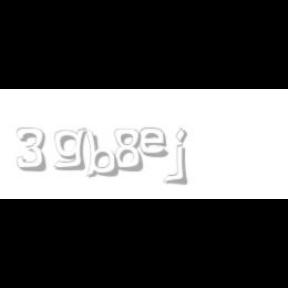3: (16, 128, 48, 172)
8: (114, 128, 142, 172)
b: (84, 128, 122, 178)
e: (139, 128, 172, 158)
g: (54, 128, 90, 171)
j: (172, 128, 202, 186)
